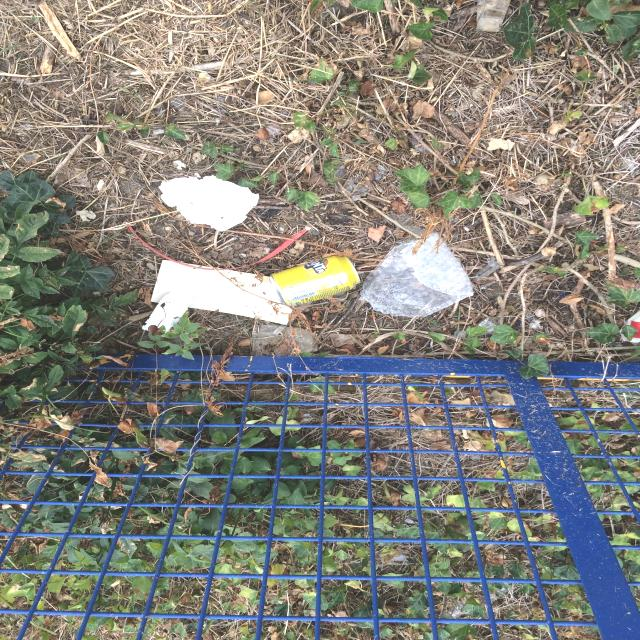Drink can: (269, 256, 360, 306)
Other carton: (151, 260, 292, 325)
Other plastic bottle: (251, 325, 307, 356), (252, 330, 317, 355)
Plastic film: (359, 232, 473, 317)
Styrofoam piece: (158, 173, 259, 231), (142, 287, 194, 333)
